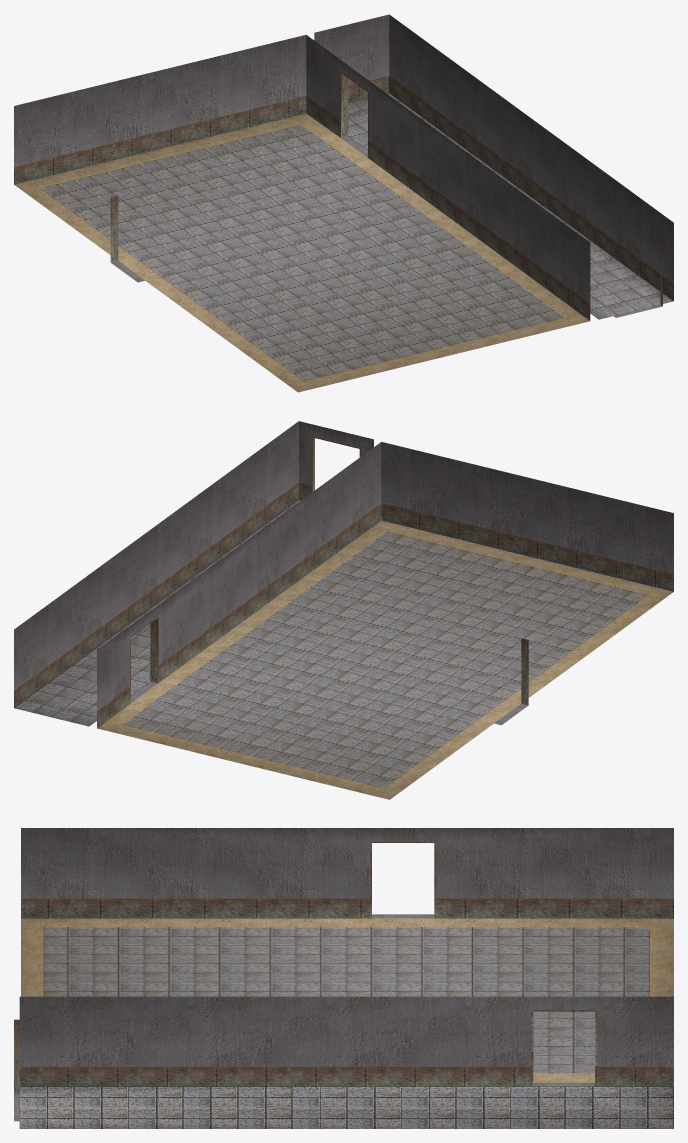
Rendered from M10_Offices_Int_05.glb.
The picture shows the model from 3 angles, top to bottom: view 1: azimuth 30°, elevation 25°; view 2: azimuth 150°, elevation 25°; view 3: azimuth 270°, elevation 25°; orthographic projection. The views are drawn at different scales.
Visible parts, largest first — view 1: M10_OFFICES_INT_05; view 2: M10_OFFICES_INT_05; view 3: M10_OFFICES_INT_05.
Boxes of the visible parts, x1=… form: M10_OFFICES_INT_05: x1=14, y1=14, x2=673, y2=392; M10_OFFICES_INT_05: x1=14, y1=421, x2=673, y2=799; M10_OFFICES_INT_05: x1=14, y1=828, x2=673, y2=1128.
Size of the model in its own units: 15.3 by 3 by 19.88.
Materials: 5 (5 with a texture image).
